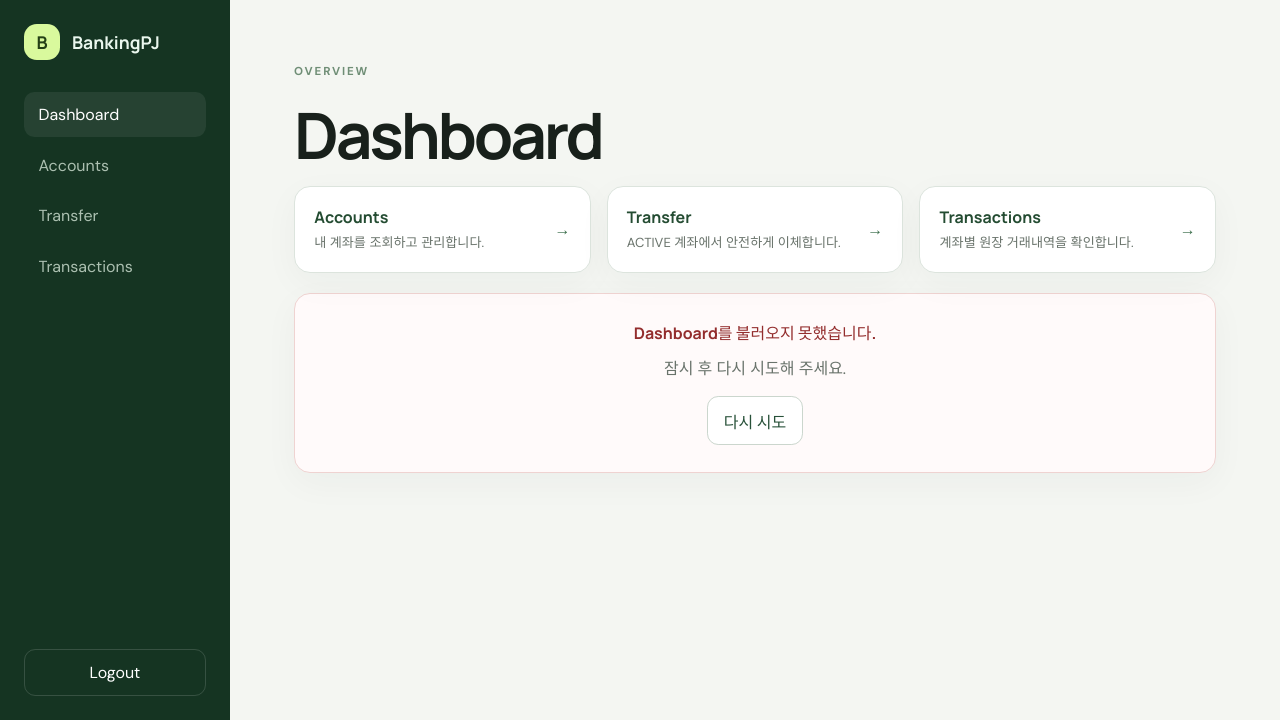
Test: Frontend 로그인 및 인증 흐름 › 로그아웃 시 서버에 요청하고 메모리 토큰을 제거한 뒤 로그인 화면으로 이동한다
Click the button "Logout". click: (115, 672)
box: 24,649 -> 206,696
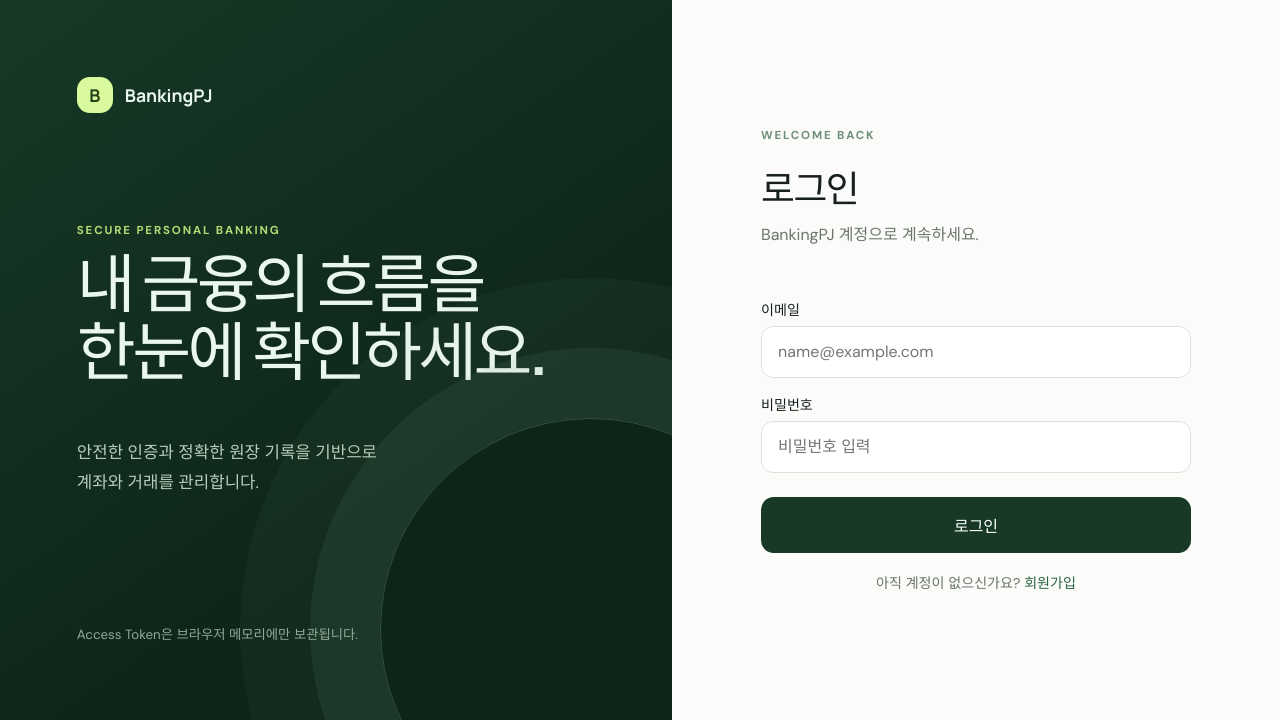
Result: the heading "로그인" is shown at 761,162 -> 858,212
